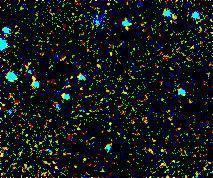star: (162, 2, 192, 32)
